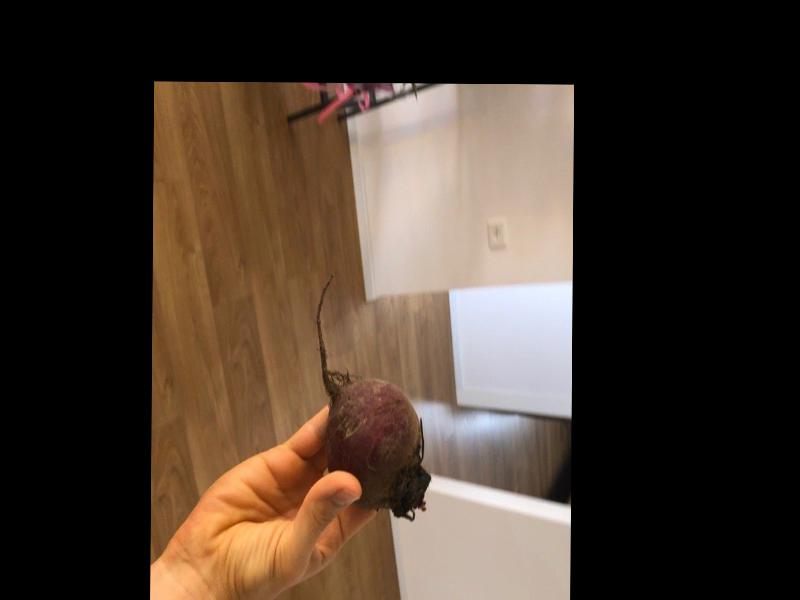Beet: (315, 273, 431, 518)
